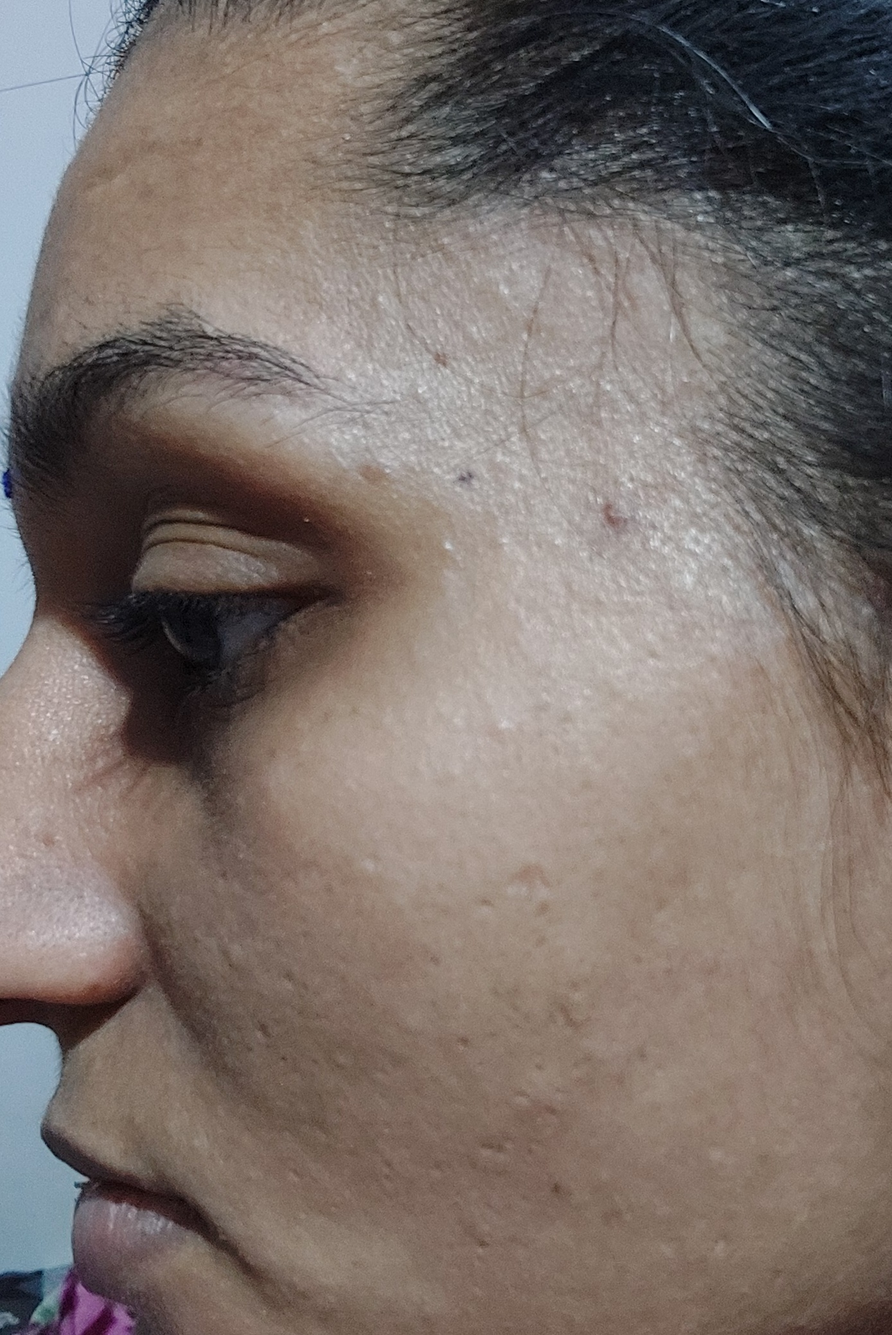closed_comedone: (450, 516, 547, 583), (362, 448, 415, 516), (486, 706, 532, 763)
